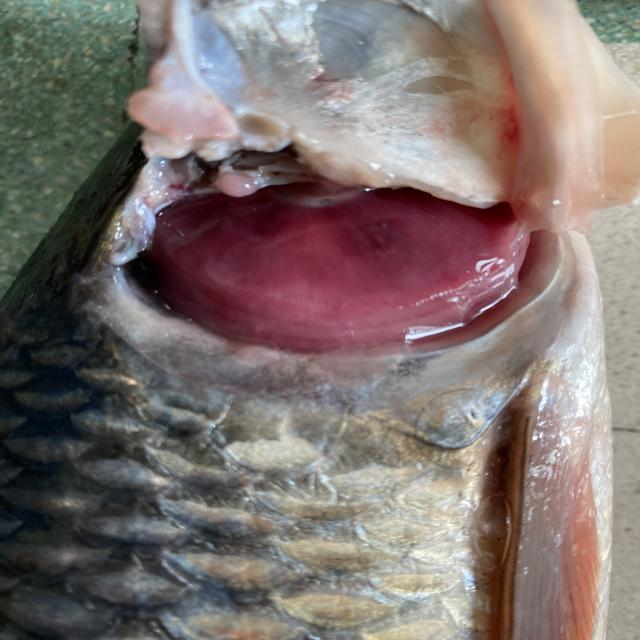Fresh: (126, 175, 576, 400)
